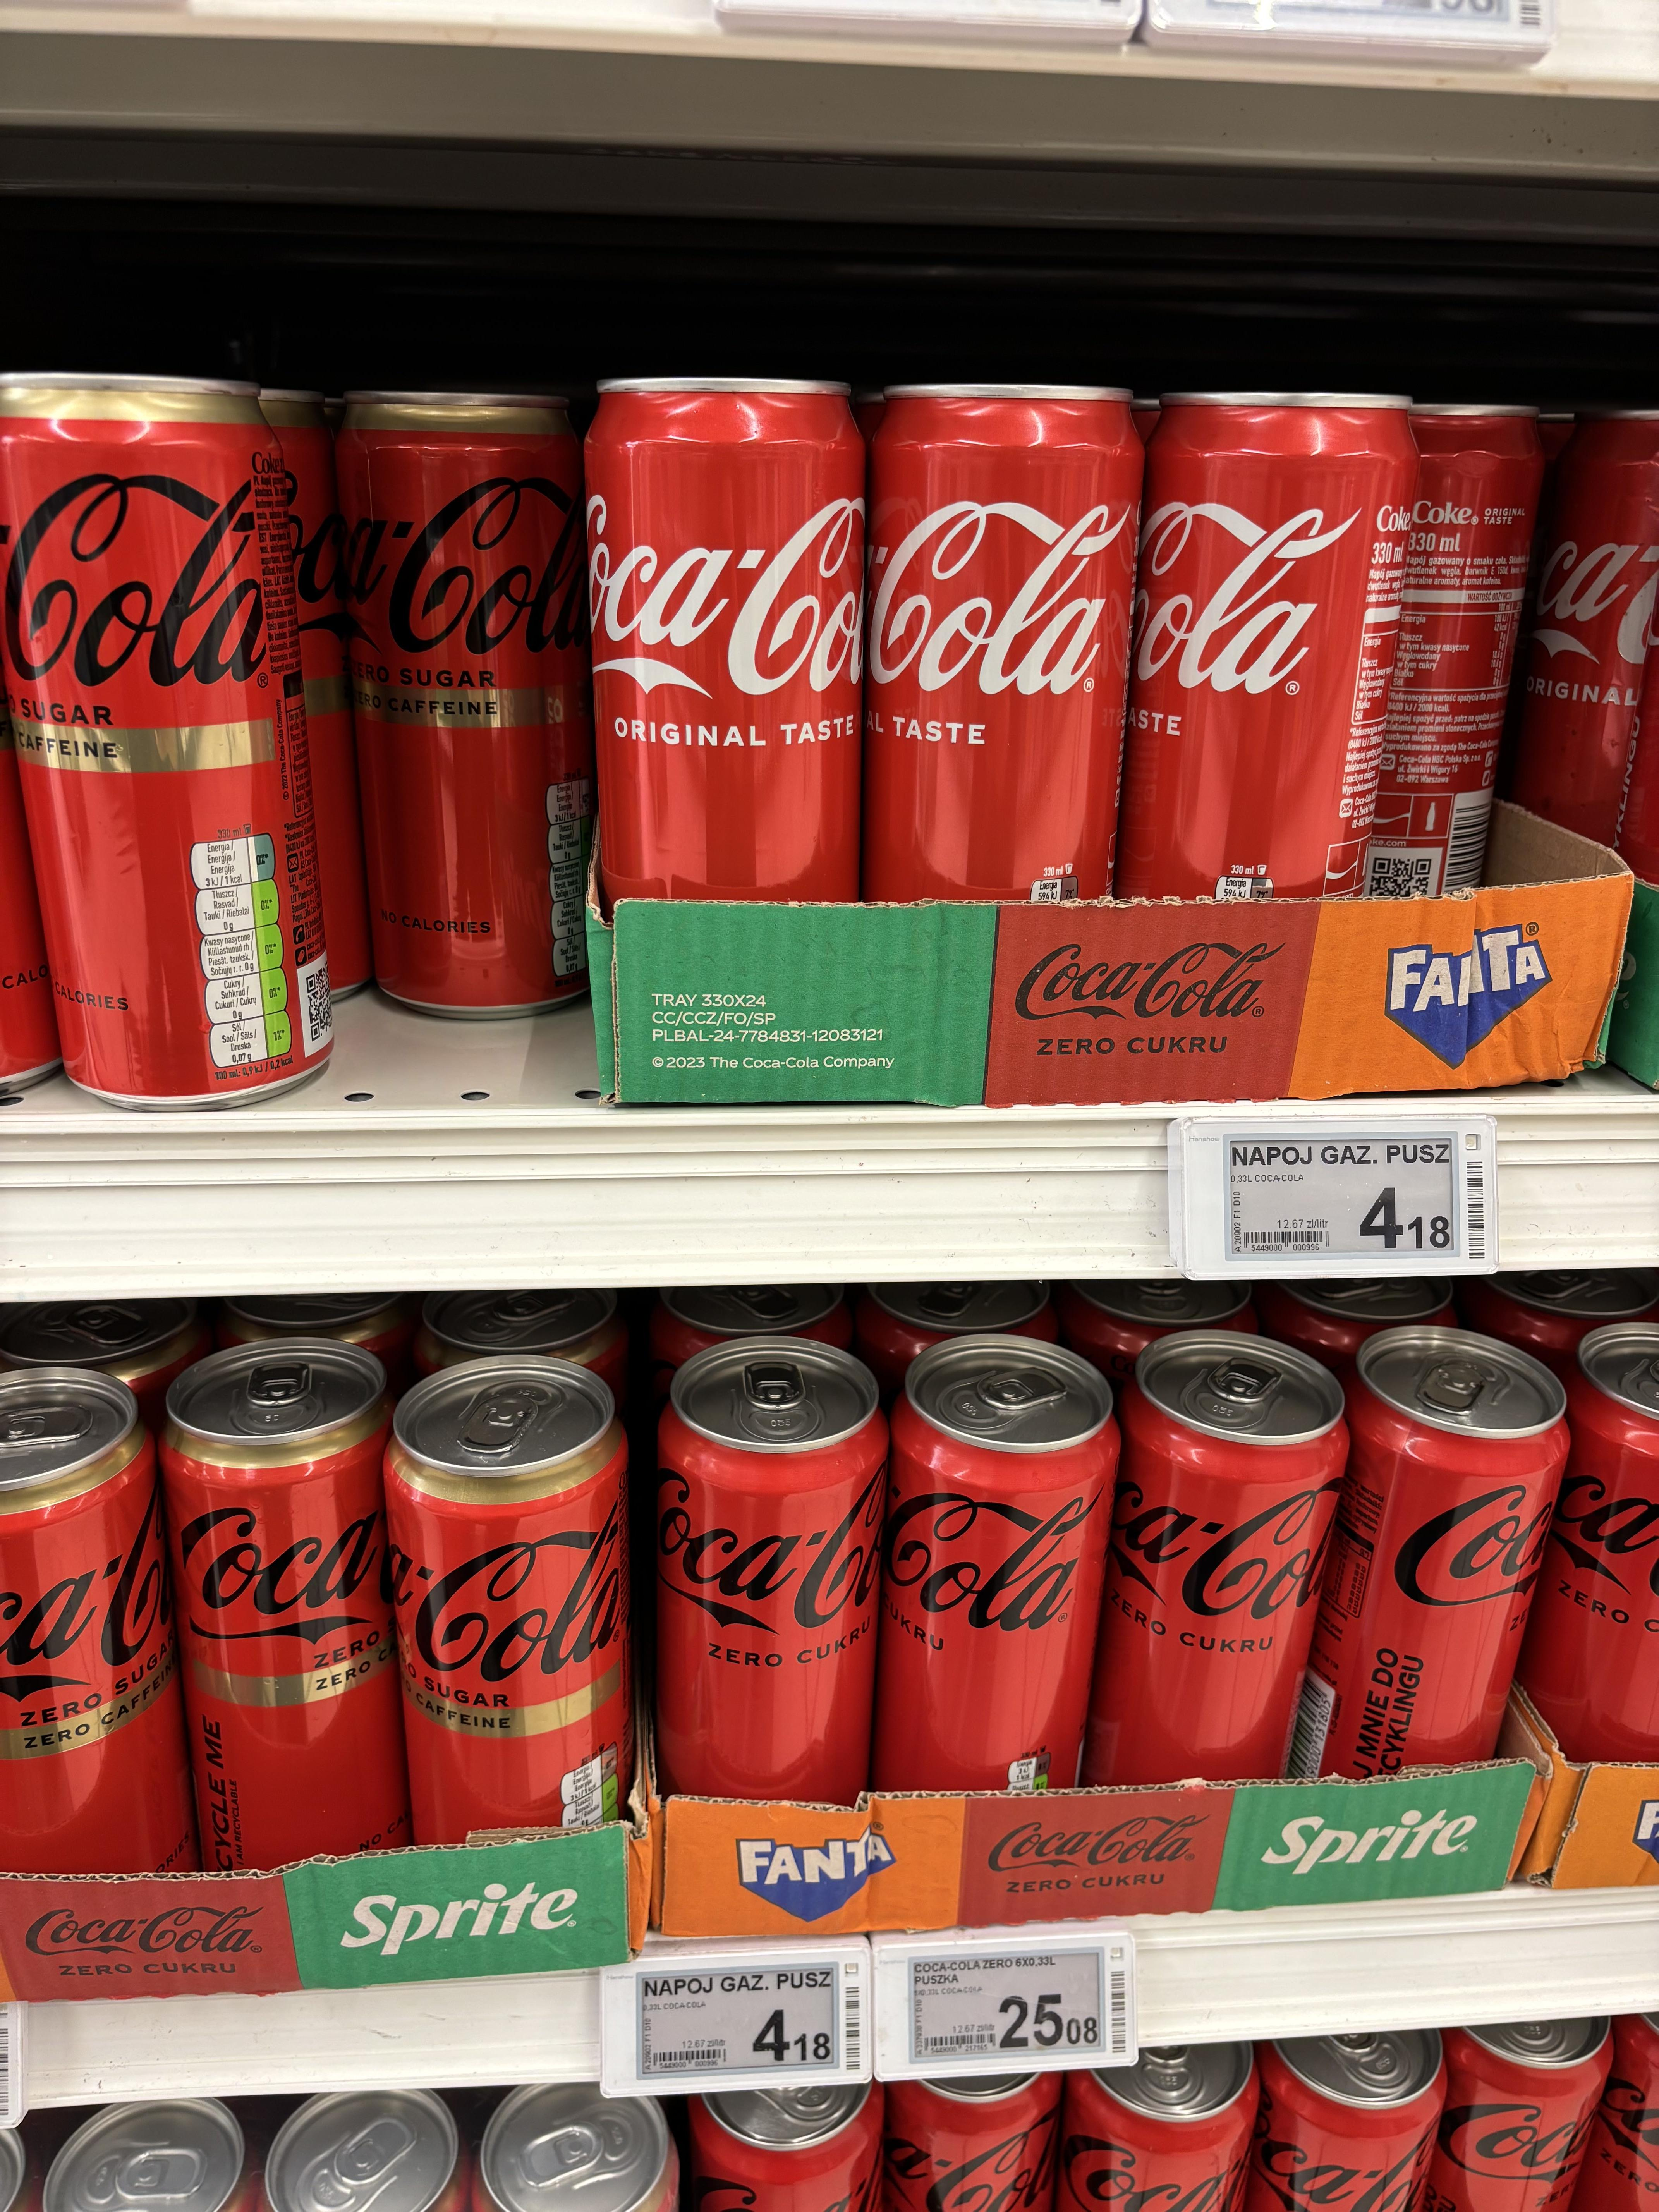Coca Cola: (5, 371, 340, 1104), (565, 347, 877, 988), (303, 378, 582, 1036), (1133, 388, 1438, 930), (864, 378, 1152, 916), (371, 1364, 624, 1876), (166, 1402, 446, 1853), (889, 1362, 1145, 1838), (1363, 1345, 1575, 1885), (647, 1357, 901, 1797), (1127, 1350, 1342, 1844), (3, 1381, 204, 1874)
